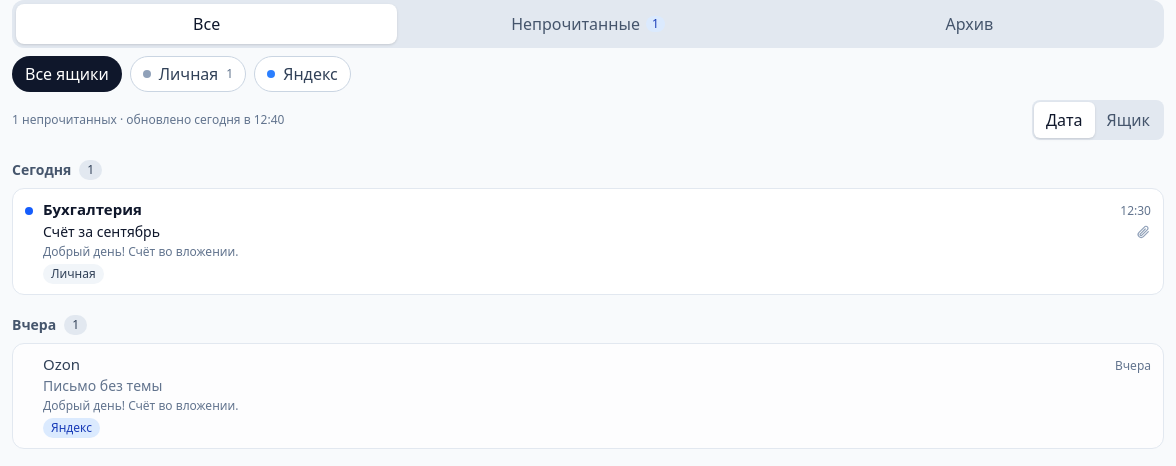
экран «Почта» › фильтрует по ящику и умеет сбрасывать фильтры
This screenshot has width=1176, height=466.
What coordinates should you click on to do the following:
click the button "Яндекс"
I would click on:
 (302, 74)
Its box is top-left (254, 56), bottom-right (351, 92).
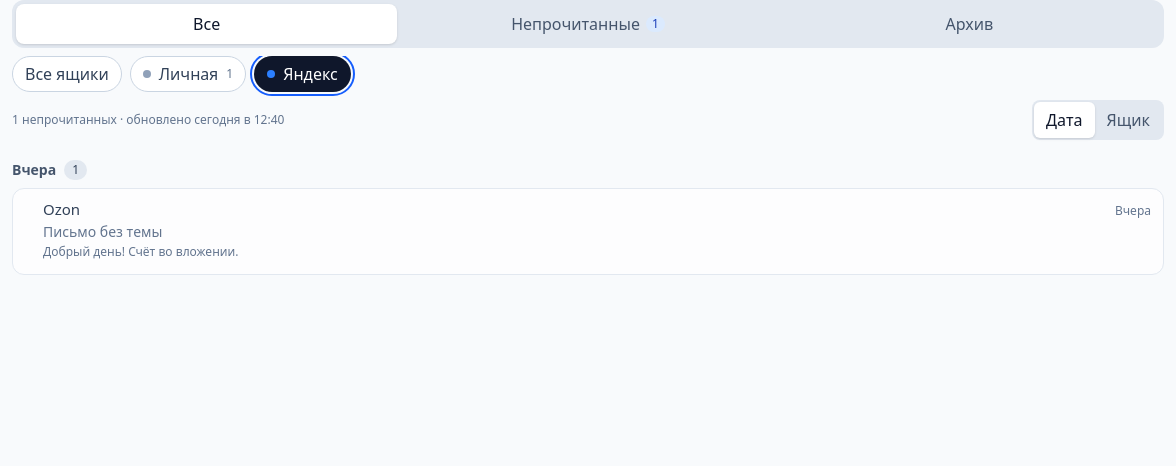
expect the button "Счёт за сентябрь" is gone: met
What coordinates should you click on to do the following:
click the tab "Архив"
I would click on:
 (969, 24)
Its box is top-left (779, 4), bottom-right (1160, 44).
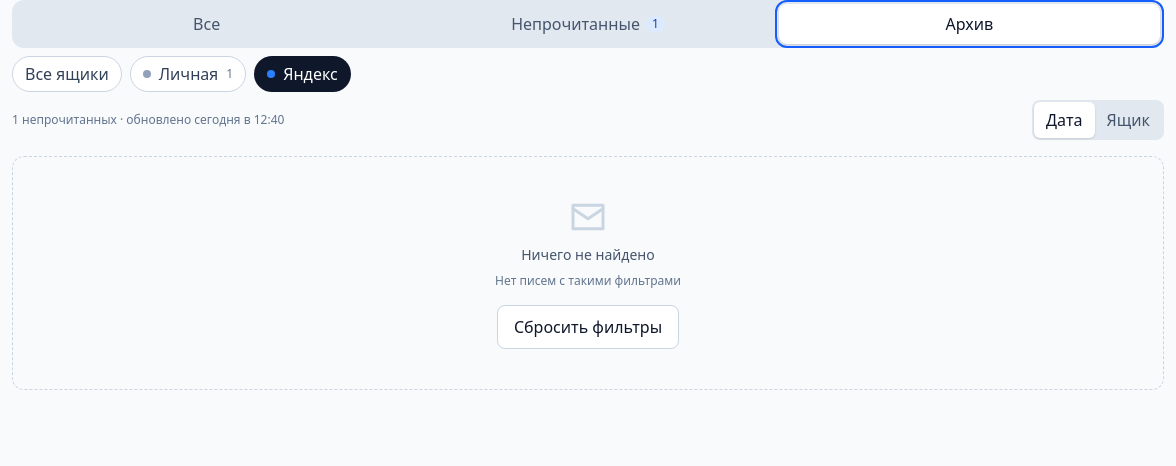
expect the text "Ничего не найдено" is shown: met, box top-left (521, 245), bottom-right (655, 265)
What coordinates should you click on to do the following:
click the button "Сбросить фильтры"
I would click on:
 (588, 327)
Its box is top-left (497, 305), bottom-right (679, 349).
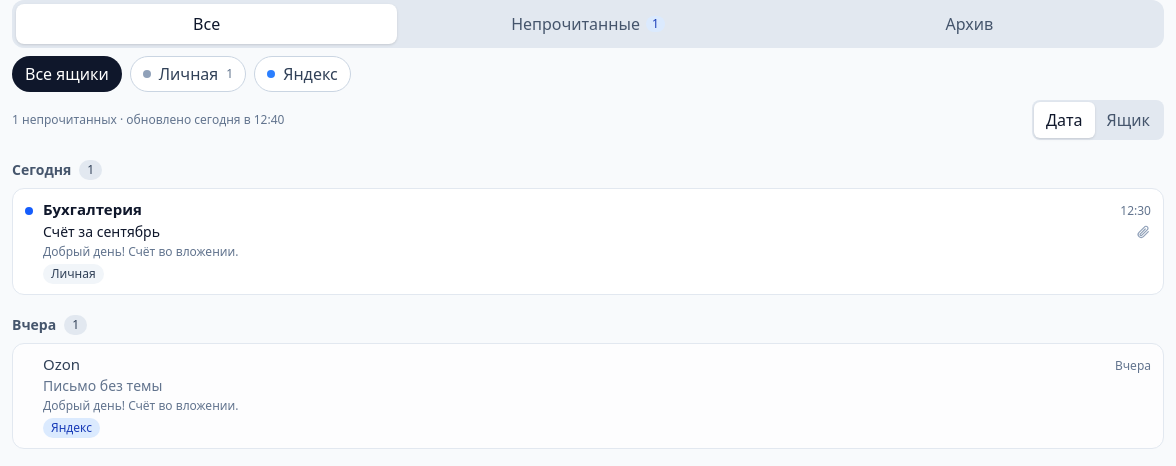
expect the text "Счёт за сентябрь" is shown: met, box top-left (43, 222), bottom-right (160, 241)
